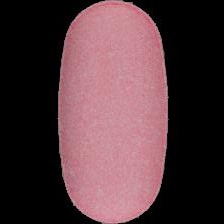50436-5128: (0, 0, 224, 224)
